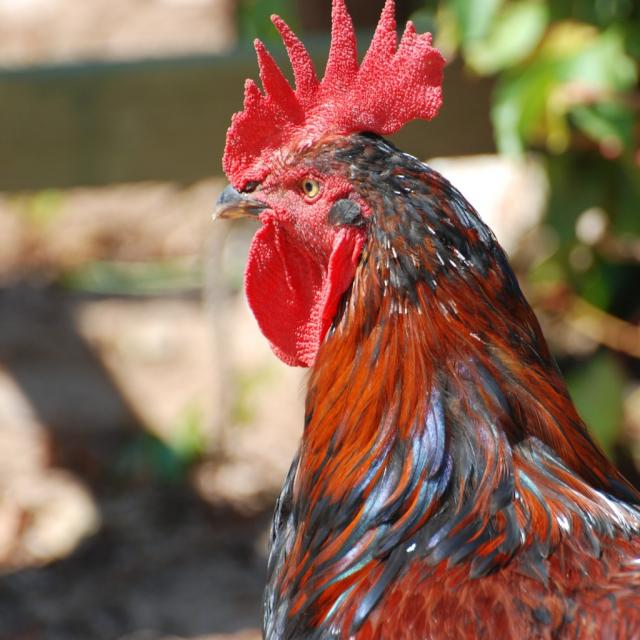Chicken: (212, 0, 640, 640)
